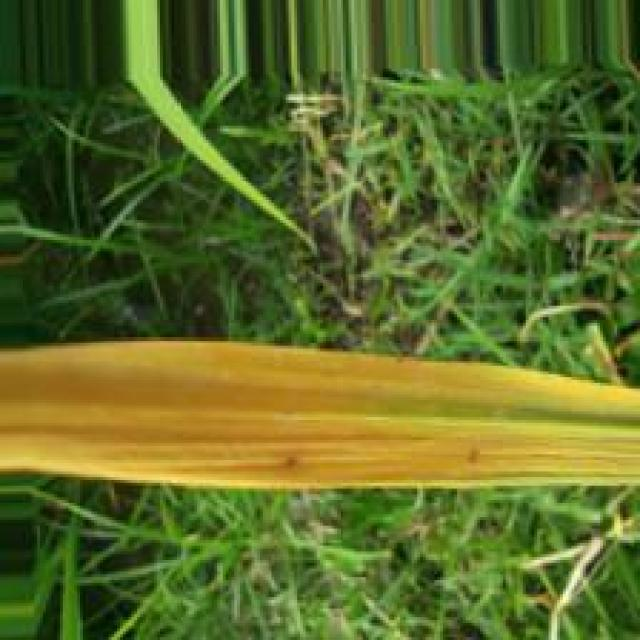Bacterial_Leaf_Blight: (0, 335, 640, 490)
